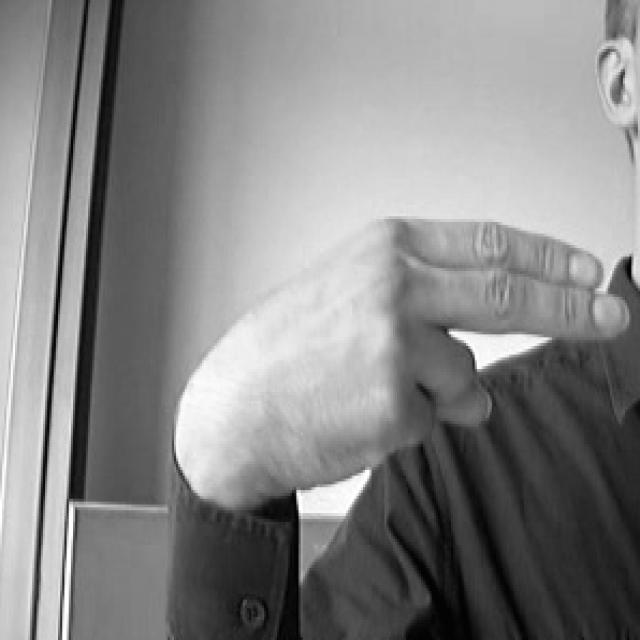H: (196, 196, 637, 498)
